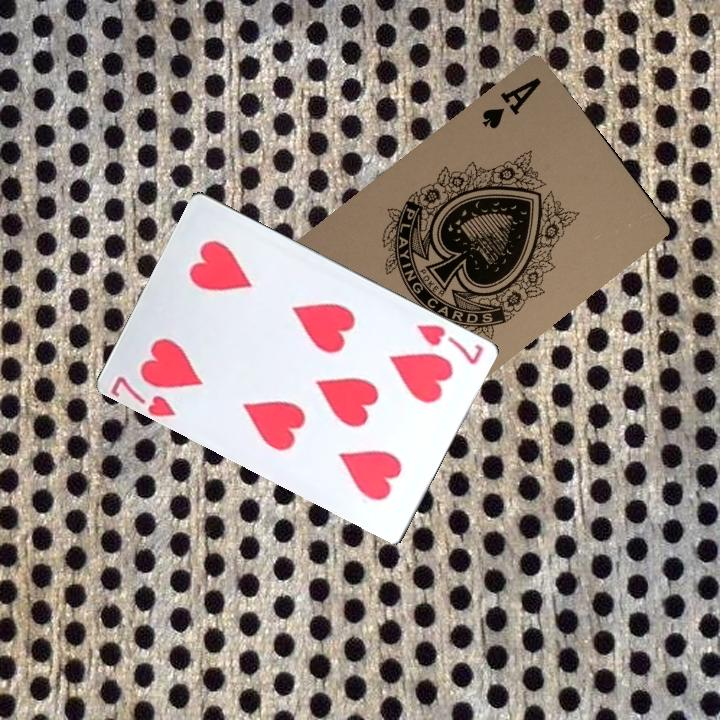7h: (412, 320, 486, 368), (106, 372, 178, 420)
As: (478, 73, 544, 132)
